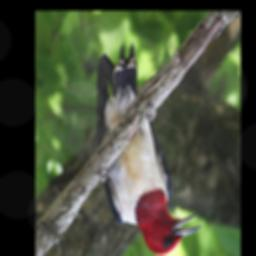Woodpecker: (92, 40, 205, 255)
